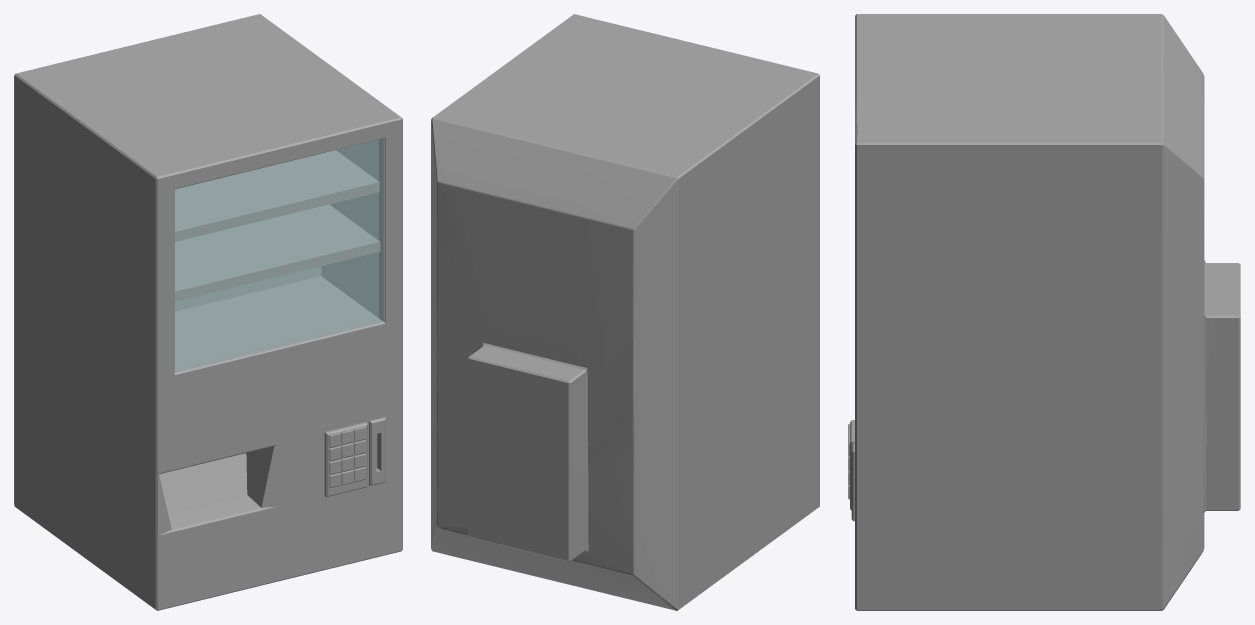
The model's file is Vending_Machine_Test.fbx.
3 renders of one model, left to right at view 1: azimuth 30°, elevation 25°; view 2: azimuth 150°, elevation 25°; view 3: azimuth 270°, elevation 25°, orthographic. The views are drawn at different scales.
Visible parts, largest first — view 1: Vending_Machine, Vending_Machine_Glass, Bottom_Shelf, Top_Shelf; view 2: Vending_Machine; view 3: Vending_Machine.
Boxes of the visible parts, x1,y1,x2,y2 form: Vending_Machine: [14, 14, 402, 610]; Vending_Machine_Glass: [175, 138, 384, 373]; Bottom_Shelf: [175, 204, 380, 301]; Top_Shelf: [175, 150, 379, 241]; Vending_Machine: [431, 14, 819, 610]; Vending_Machine: [850, 14, 1240, 610].
Bounding box in the file's own units: 59.63 × 100 × 75.94.
